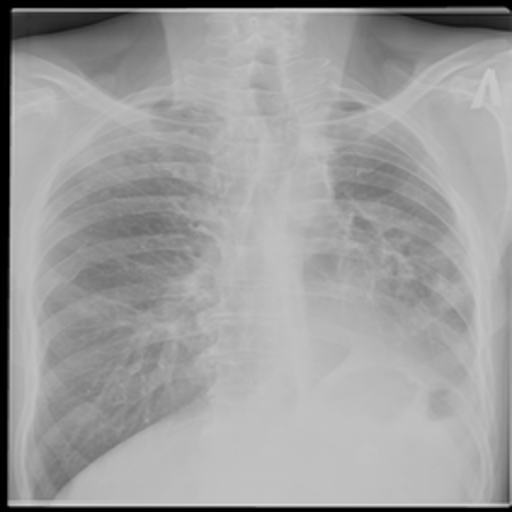TB: (332, 153, 463, 339)
